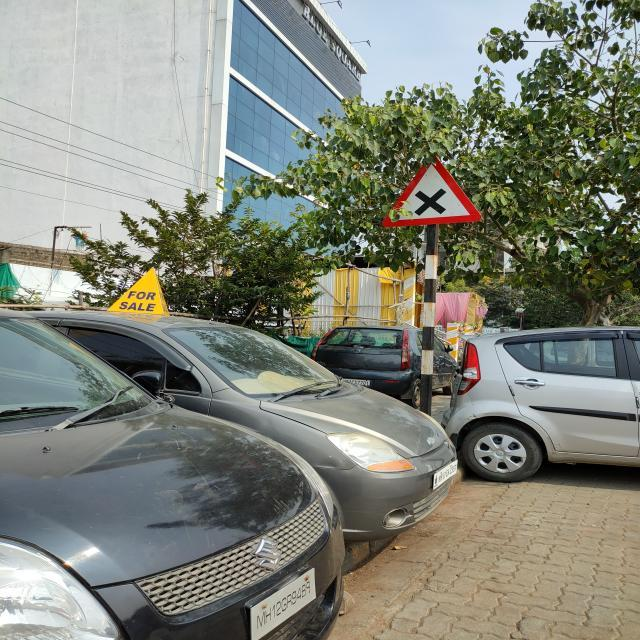cross road: (387, 149, 482, 230)
